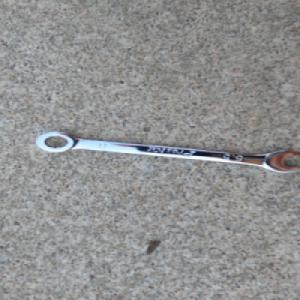Wrench: (33, 129, 300, 174)
